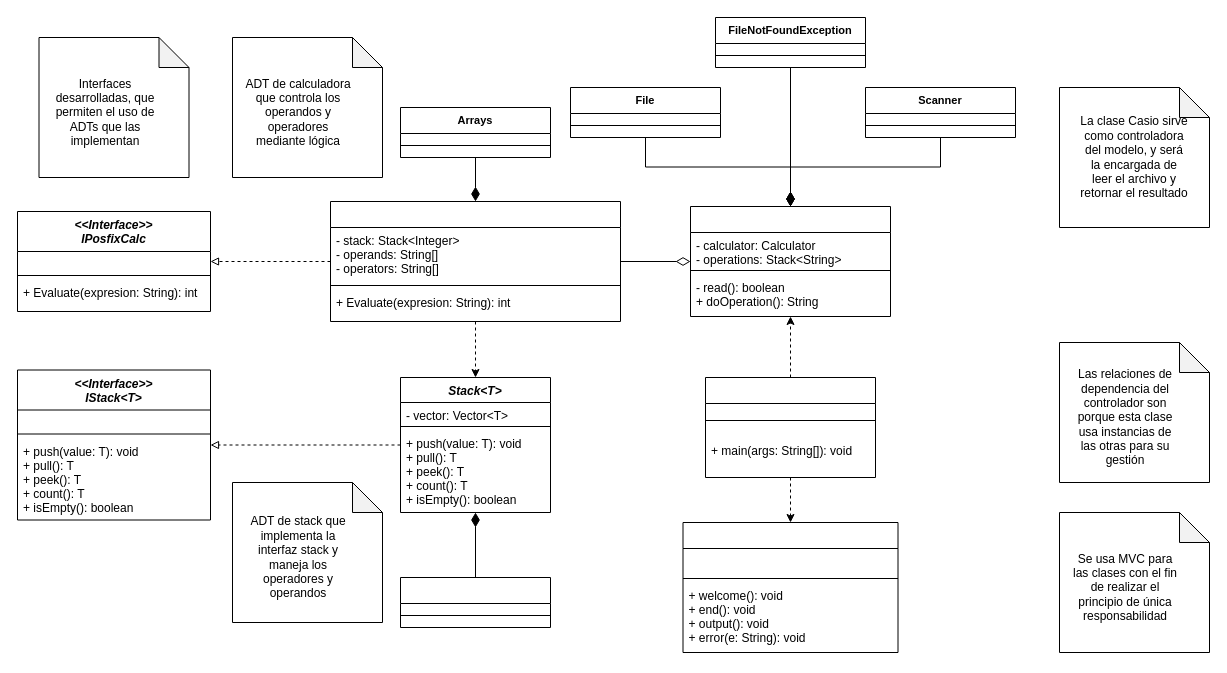
Image size: 1227x673. Some labels were removed from this diagram. The shapes that lost their labels are listed below. From the top down, each one's box as (x1, y1, x2, y2) in pixels, then its label:
(330, 200, 620, 322): Calculator
(690, 206, 890, 316): Casio
(704, 376, 876, 478): Controller
(400, 576, 550, 628): Vector
(682, 522, 898, 652): View
